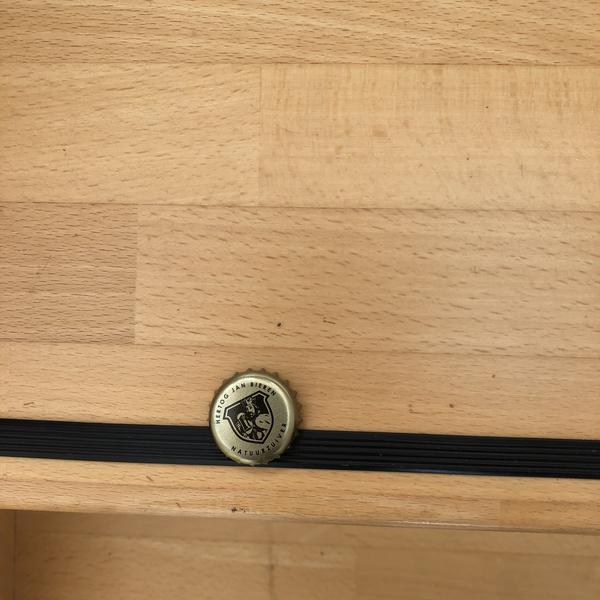hertogjan: (206, 367, 300, 472)
